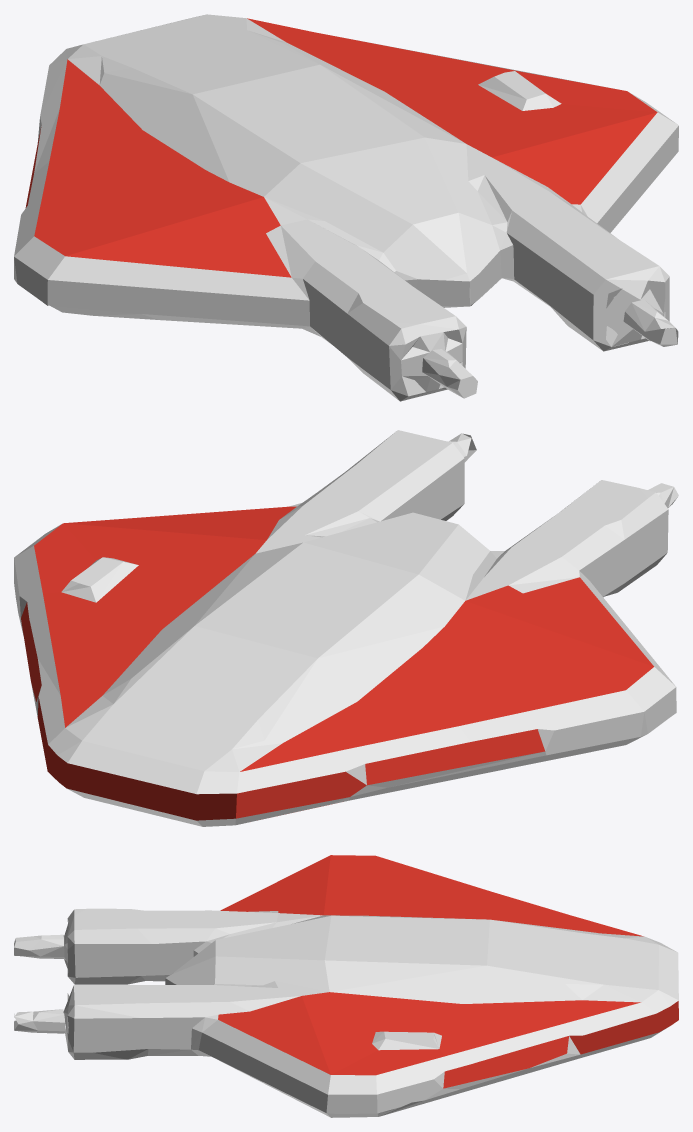
File: SetReachVanT2V1.glb
3 views of the same model, one above another, from view 1: azimuth 30°, elevation 25°; view 2: azimuth 150°, elevation 25°; view 3: azimuth 270°, elevation 25° (orthographic). The views are drawn at different scales.
Visible parts, largest first — view 1: Spaceship; view 2: Spaceship; view 3: Spaceship.
Part boxes in pixels (bbox=[...]): Spaceship: bbox=[14, 14, 678, 401]; Spaceship: bbox=[14, 430, 678, 826]; Spaceship: bbox=[14, 855, 678, 1117].
Bounding box in the file's own units: 58.11 × 9.97 × 69.68.
